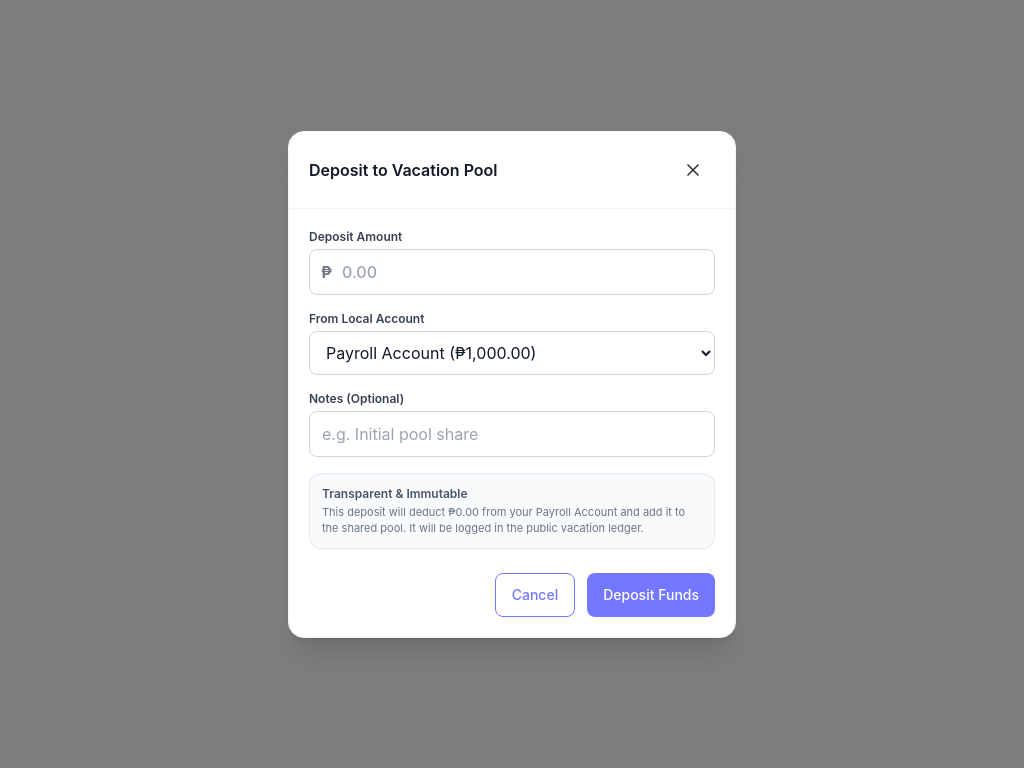
VacationModals › blocks deposit if amount exceeds local account balance
The image size is (1024, 768).
In the field named "Deposit Amount": (512, 272) [309, 248, 715, 294], type "1500"
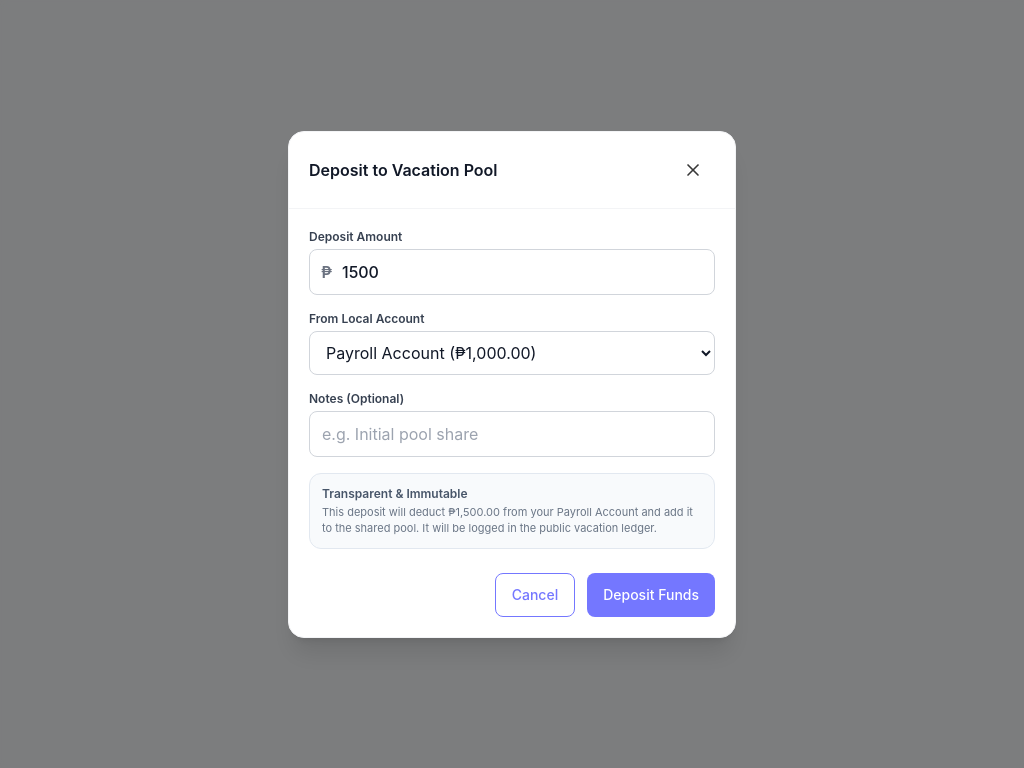
Click the button "Deposit Funds": (651, 594) [587, 572, 715, 616]
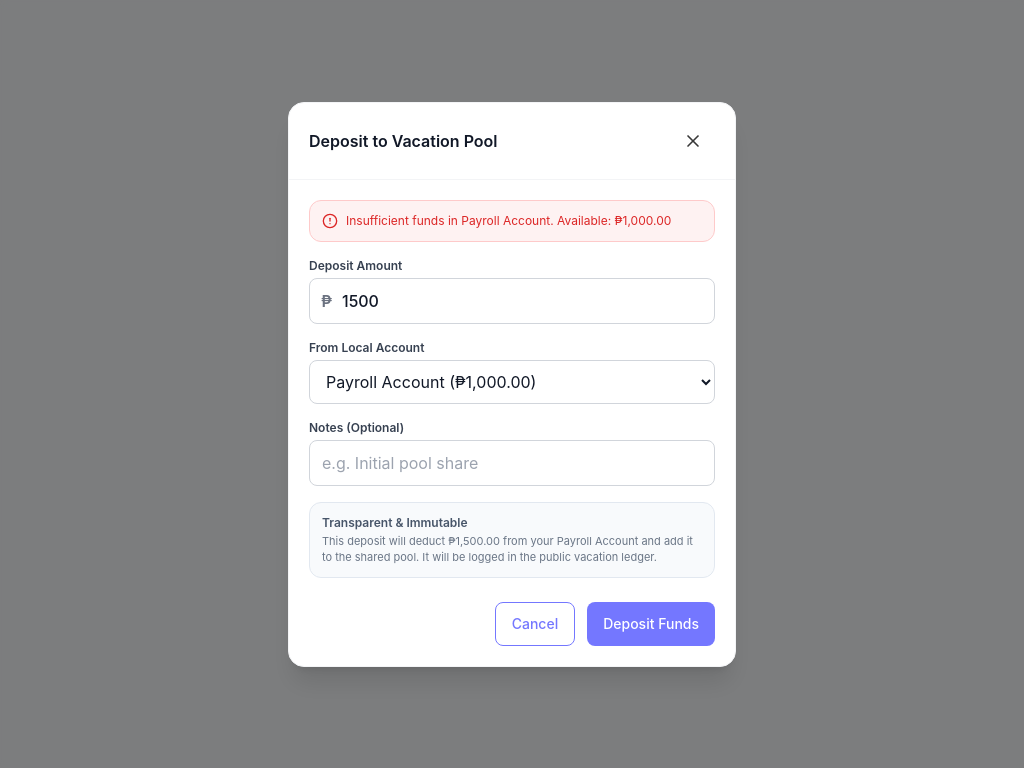
Check: the text "Insufficient funds in Payroll Account. Available: ₱1,000.00" is shown, box [346, 212, 671, 228]
